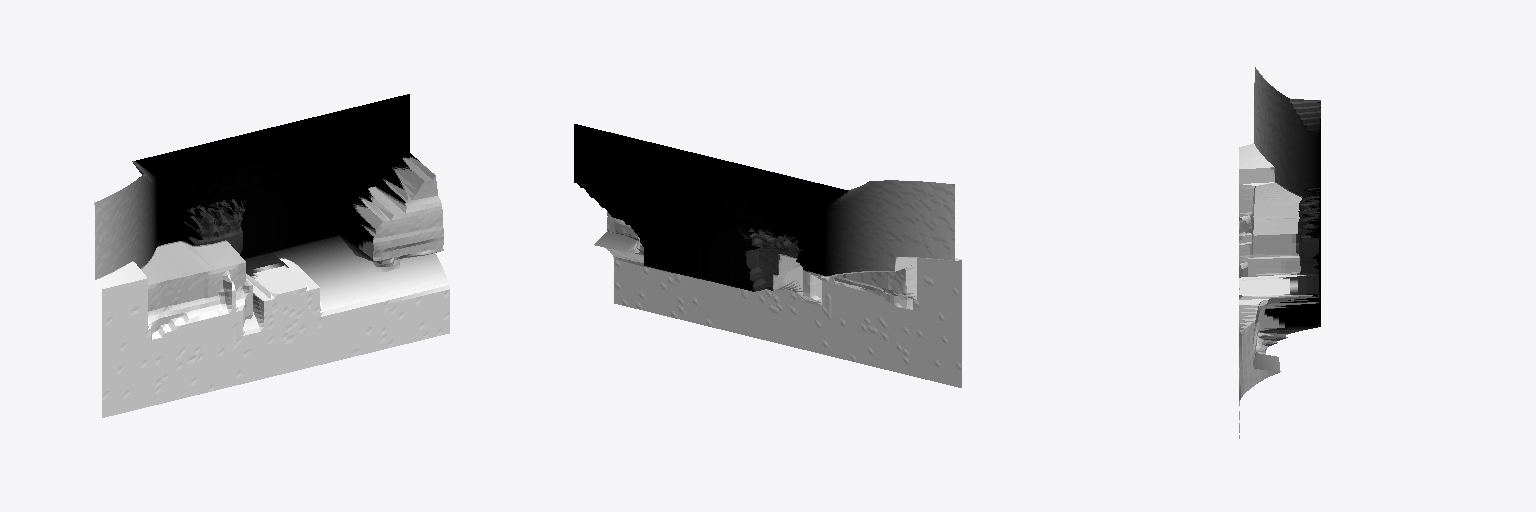
3 renders of one model, left to right at view 1: azimuth 30°, elevation 25°; view 2: azimuth 150°, elevation 25°; view 3: azimuth 270°, elevation 25°, orthographic.
Parts seen in each view (by area): view 1: Scene; view 2: Scene; view 3: Scene.
Part boxes in pixels (left/top/right/bottom): Scene: left=94, top=94, right=449, bottom=417; Scene: left=574, top=124, right=961, bottom=387; Scene: left=1239, top=67, right=1320, bottom=438.
Bounding box in the file's own units: 99 × 57 × 20.
Materials: 1 (1 with a texture image).